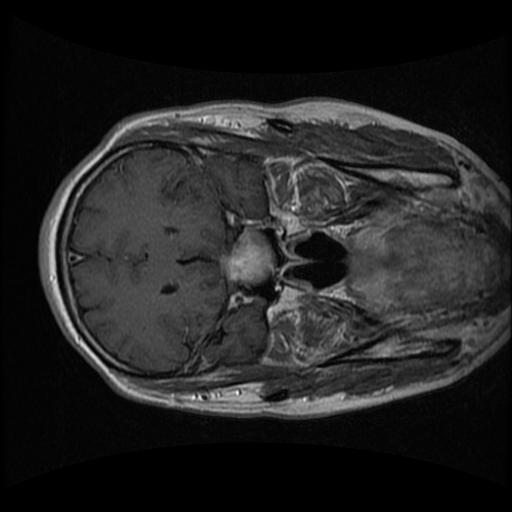pituitary tumour: (221, 228, 275, 286)
